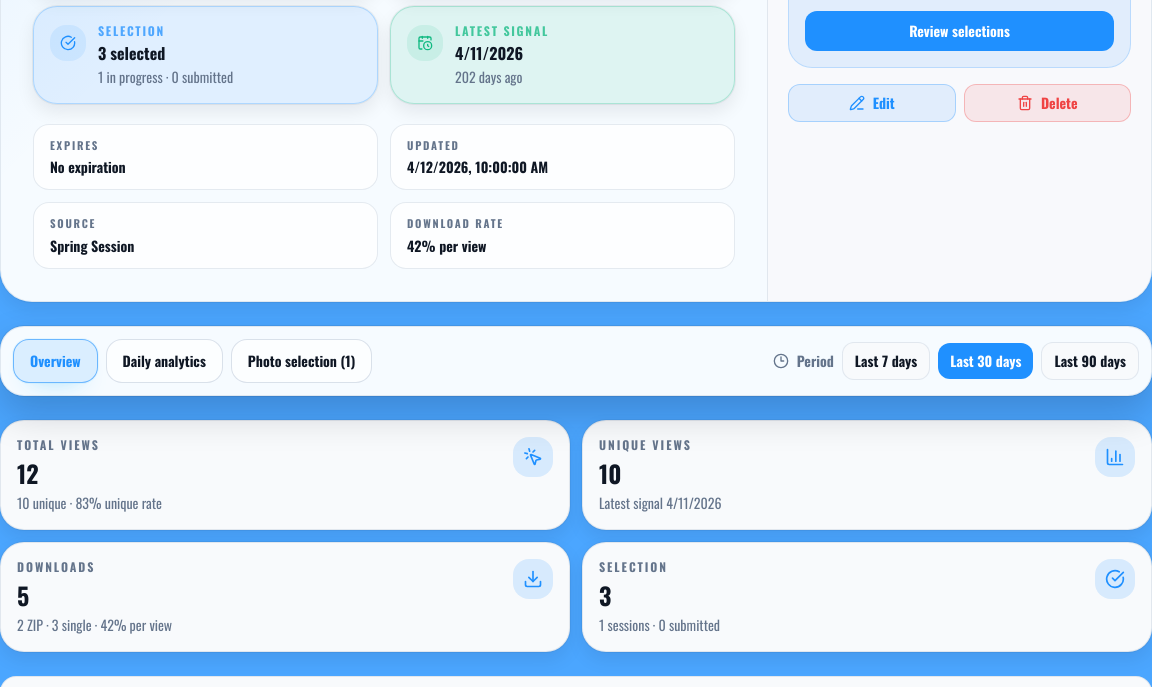
Scenario: ShareLinkDetailPage › does not retry-loop heavy selection loading after a failure
(page scrolled)
Click the tab "Photo selection (1)": [302, 361] box [231, 339, 372, 383]
(page scrolled)
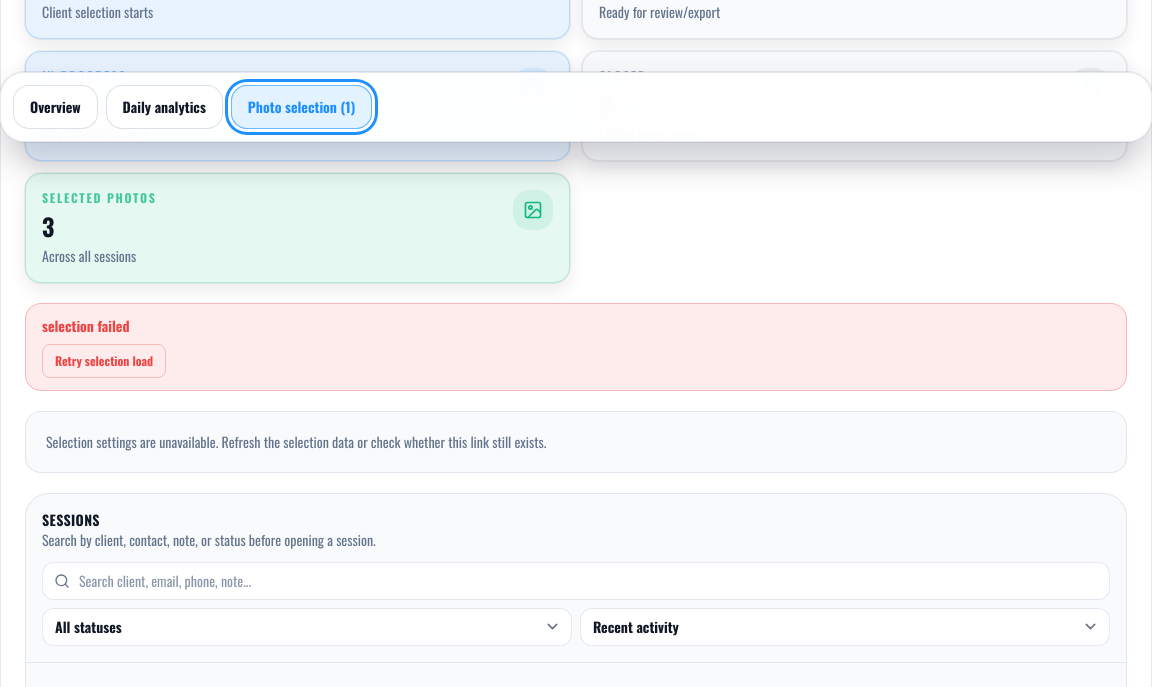
Check: the button "Retry selection load" is shown, box [42, 344, 166, 378]
